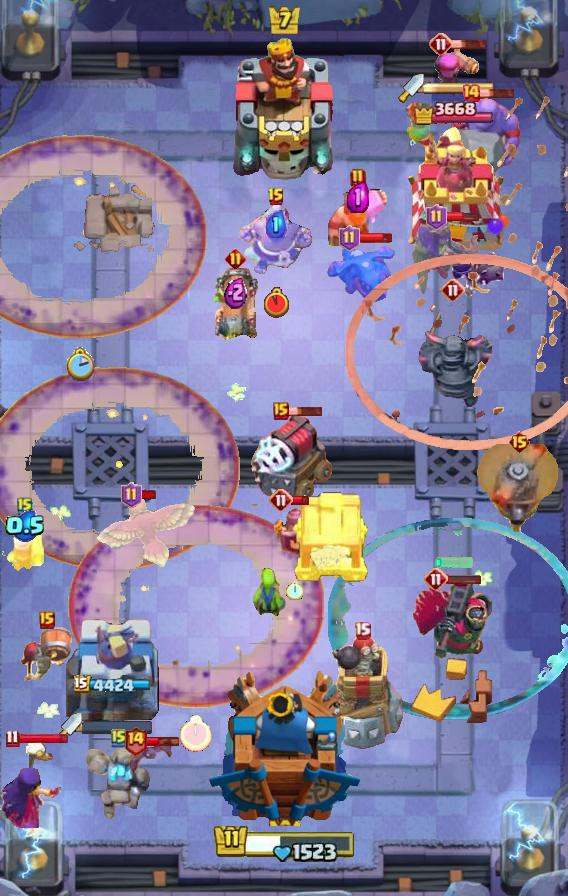archer-queen: (442, 95, 524, 183)
axe: (0, 740, 64, 828)
bar: (394, 126, 512, 256), (66, 611, 162, 731)
barbarian-barrel: (125, 745, 173, 773)
barbarian-hut: (408, 213, 488, 301)
battle-healer: (212, 262, 258, 344)
bomb: (291, 489, 371, 583)
clock: (212, 820, 356, 862)
dark-prince: (472, 444, 566, 532)
electro-spirit: (6, 510, 47, 542), (225, 276, 248, 308), (347, 182, 369, 213), (265, 210, 286, 238)
elixir: (180, 715, 212, 752), (66, 347, 94, 381), (263, 287, 288, 318), (286, 581, 303, 599)
elixir-collector: (238, 201, 314, 277)
emote: (19, 732, 70, 745), (452, 38, 489, 50), (480, 87, 517, 99), (287, 405, 324, 417), (357, 232, 393, 244), (446, 573, 482, 585), (145, 735, 181, 747), (444, 211, 479, 223), (138, 489, 157, 501), (290, 495, 310, 506)
goblin-ball: (449, 242, 509, 300)
golden-knight: (93, 492, 199, 570)
golem: (249, 412, 333, 502)
golemite: (414, 305, 492, 409)
graveyard: (327, 241, 397, 305)
hog-rider: (399, 97, 437, 149)
ice-spirit: (434, 556, 474, 568)
inferno-tower: (410, 578, 498, 660)
king-tower: (207, 669, 361, 826), (228, 35, 340, 181)
king-tower-bar: (424, 81, 496, 95), (82, 720, 154, 734)
knight: (19, 625, 75, 683)
mighty-miner: (325, 182, 391, 246)
pad_0: (328, 517, 568, 721)
princess: (270, 498, 318, 558)
rocket: (68, 504, 324, 708), (0, 367, 240, 571), (1, 135, 208, 339)
selected: (413, 98, 493, 129), (73, 675, 154, 697)
skeleton-barrel: (344, 92, 568, 451)
text: (124, 725, 149, 756), (429, 32, 453, 56), (441, 278, 465, 302), (269, 488, 293, 512), (424, 567, 448, 591), (509, 430, 532, 454), (426, 204, 447, 230), (339, 225, 360, 251), (121, 482, 142, 508), (225, 247, 247, 268), (461, 83, 481, 103), (267, 187, 285, 207), (353, 621, 371, 639), (350, 168, 366, 188), (17, 496, 33, 516), (111, 728, 127, 748), (273, 402, 289, 420), (39, 611, 55, 629), (5, 729, 20, 748)
tombstone: (433, 44, 479, 100), (4, 515, 46, 573)
valkyrie-evolution: (82, 744, 156, 826)
zap: (248, 567, 288, 619)
zappy: (320, 632, 404, 754)
